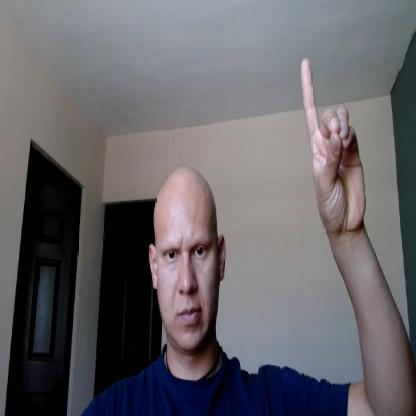D: (300, 58, 367, 234)
